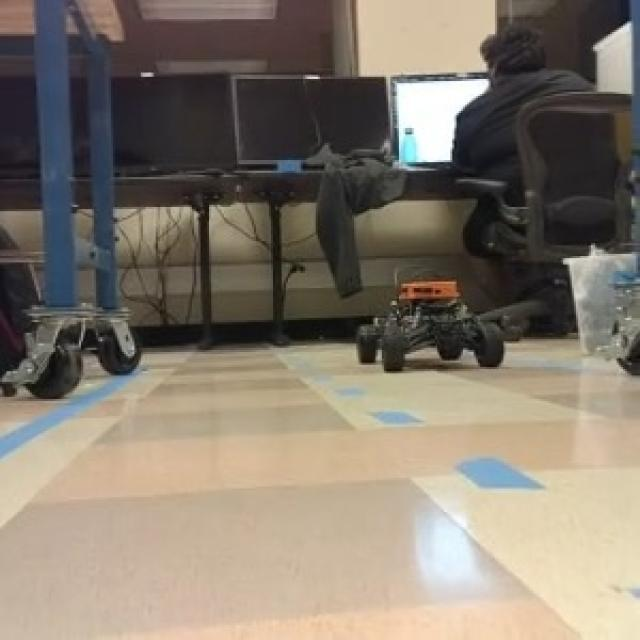obstacle: (349, 269, 513, 380)
